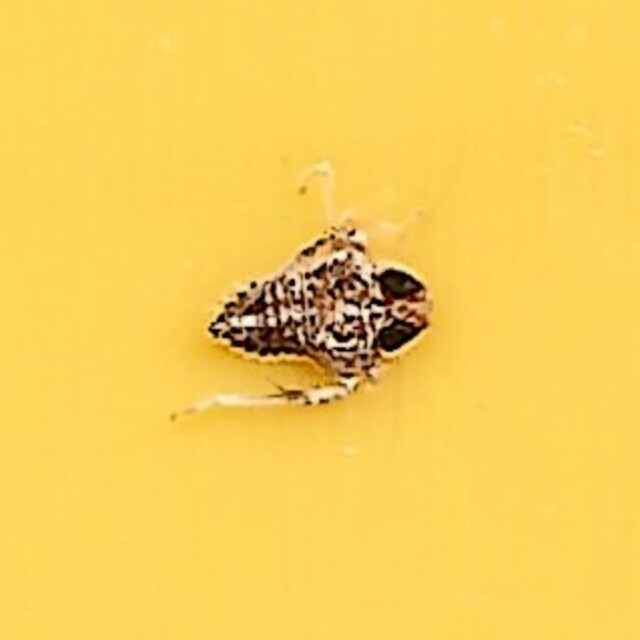Hemiptera: (201, 227, 439, 413)
